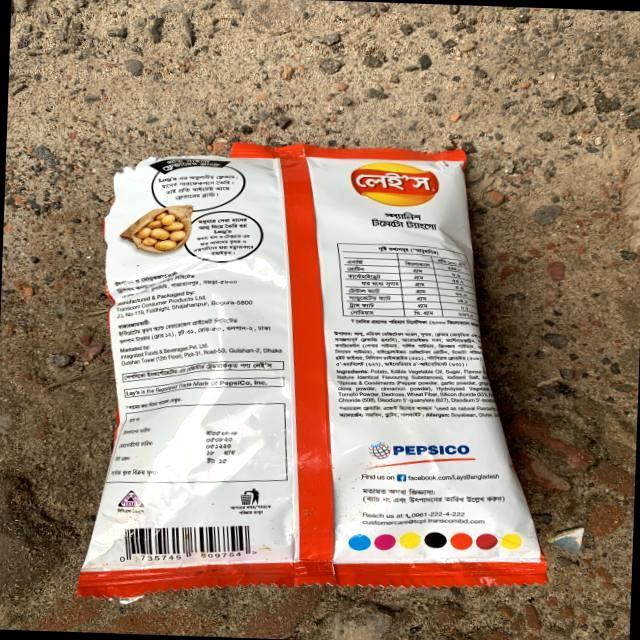packet: (83, 136, 564, 604)
